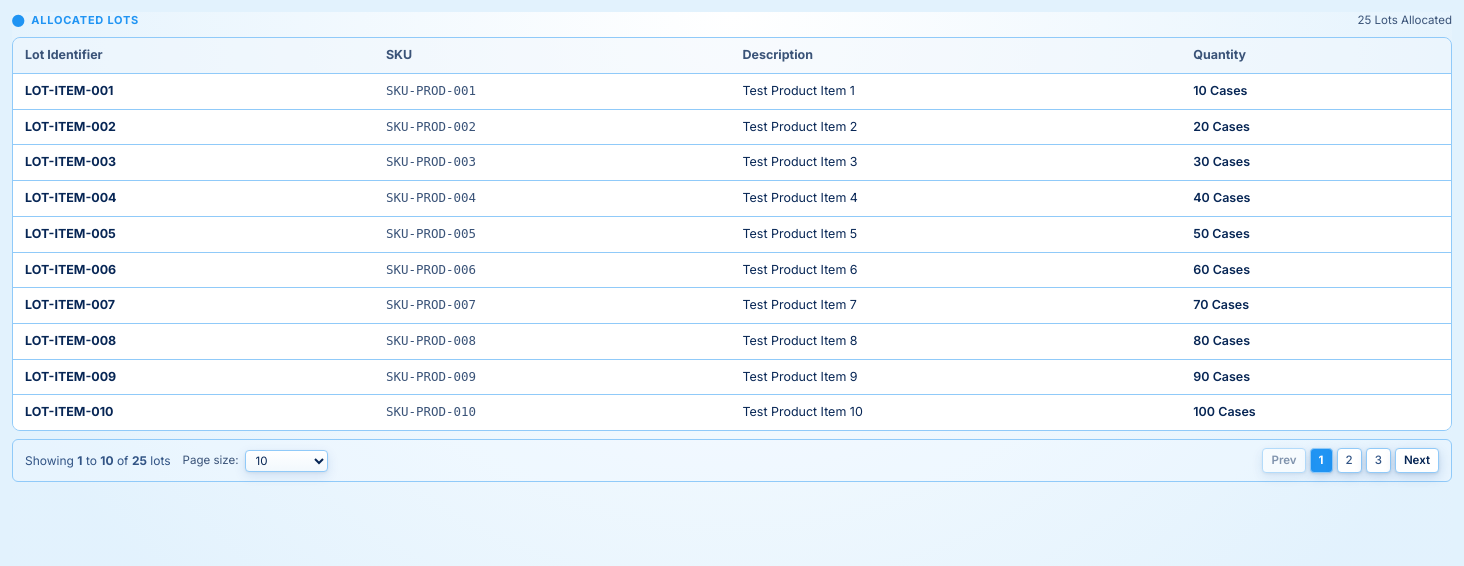
Test: Stage Audit -> ALLOCATED LOTS Pagination and Page Size (Max 30) › StageAllocatedLotsSection Isolated Component Tests › navigates through pages using Next and Prev buttons
Click the button with test id "stage-allocated-lots-page-next" at (1417, 461), box [1395,448,1439,474]
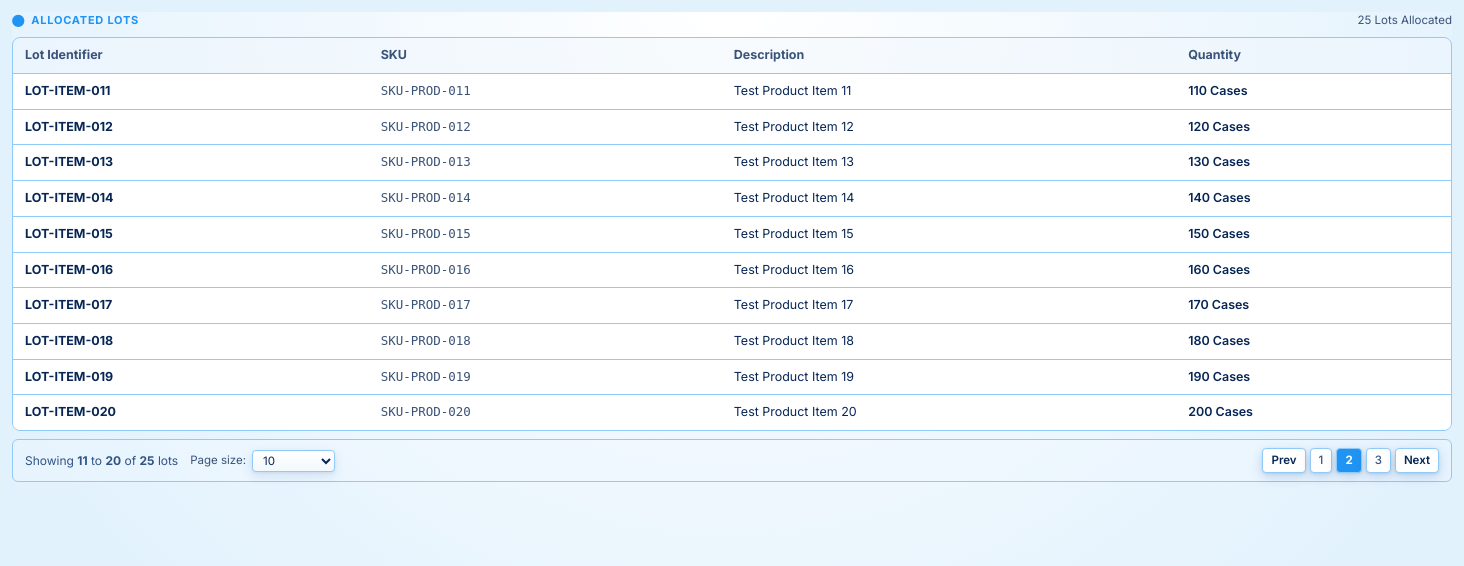
Result: the element with test id "stage-allocated-lots-page-info" reads "Showing 11 to 20 of 25 lots" at [25,452,178,470]
Result: the row with test id "stage-allocated-lot-row" shows "LOT-ITEM-011" at [25,83,110,98]
Result: the row with test id "stage-allocated-lot-row" shows "LOT-ITEM-020" at [25,404,116,420]
Click the button with test id "stage-allocated-lots-page-next" at (1417, 461), box [1395,448,1439,474]
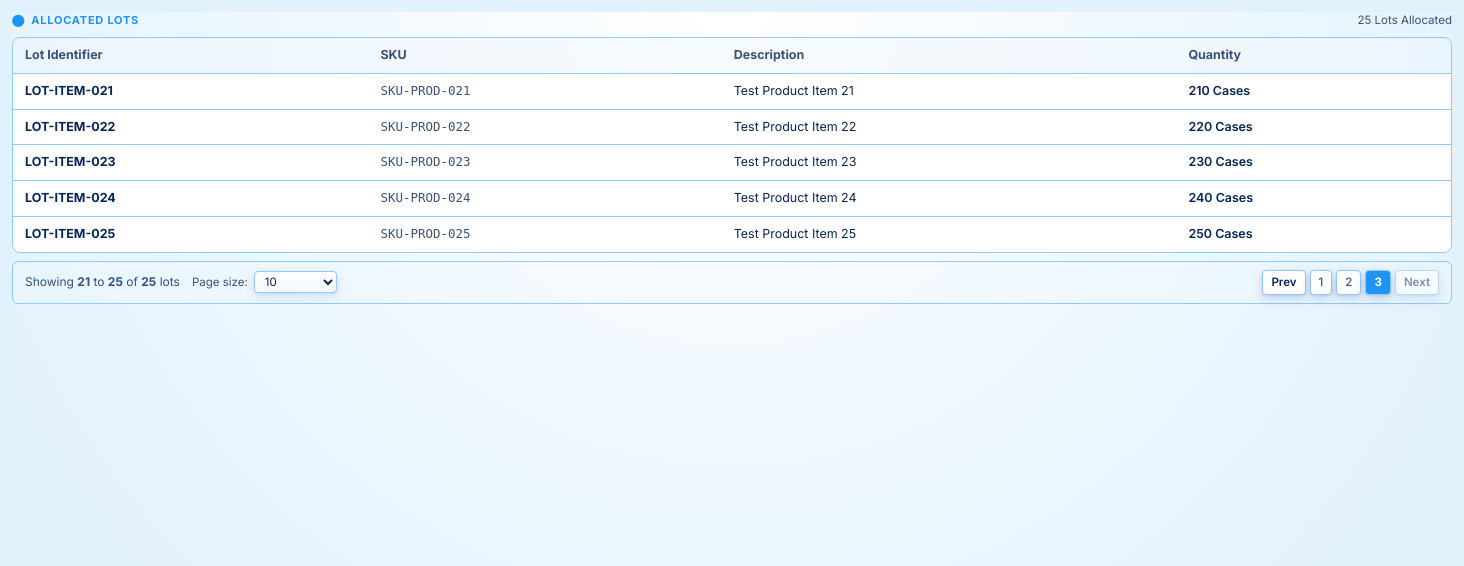
Result: the element with test id "stage-allocated-lots-page-info" reads "Showing 21 to 25 of 25 lots" at [25,273,180,291]
Result: the number of rows with test id "stage-allocated-lot-row" is 5 at [13,74,1451,109]; [13,109,1451,145]; [13,145,1451,181]; [13,181,1451,216]; [13,216,1451,252]
Result: the row with test id "stage-allocated-lot-row" shows "LOT-ITEM-021" at [25,83,113,98]
Click the button with test id "stage-allocated-lots-page-prev" at (1284, 282), box [1262,270,1306,295]
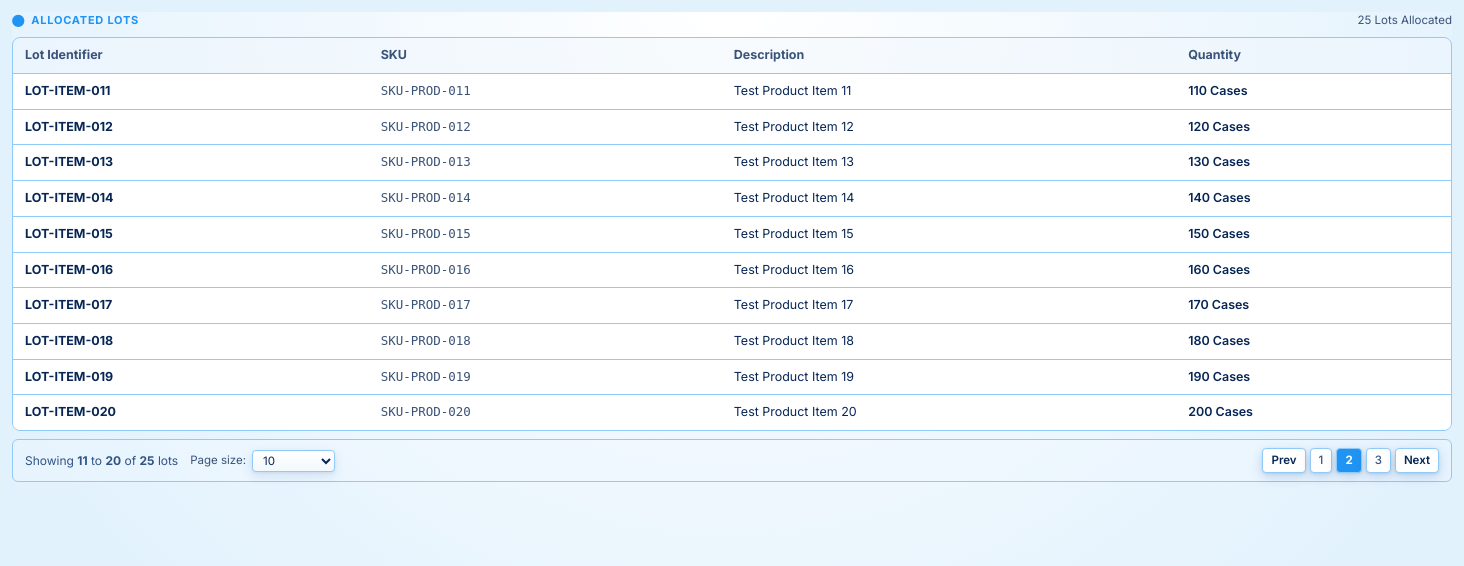
Result: the element with test id "stage-allocated-lots-page-info" reads "Showing 11 to 20 of 25 lots" at [25,452,178,470]
